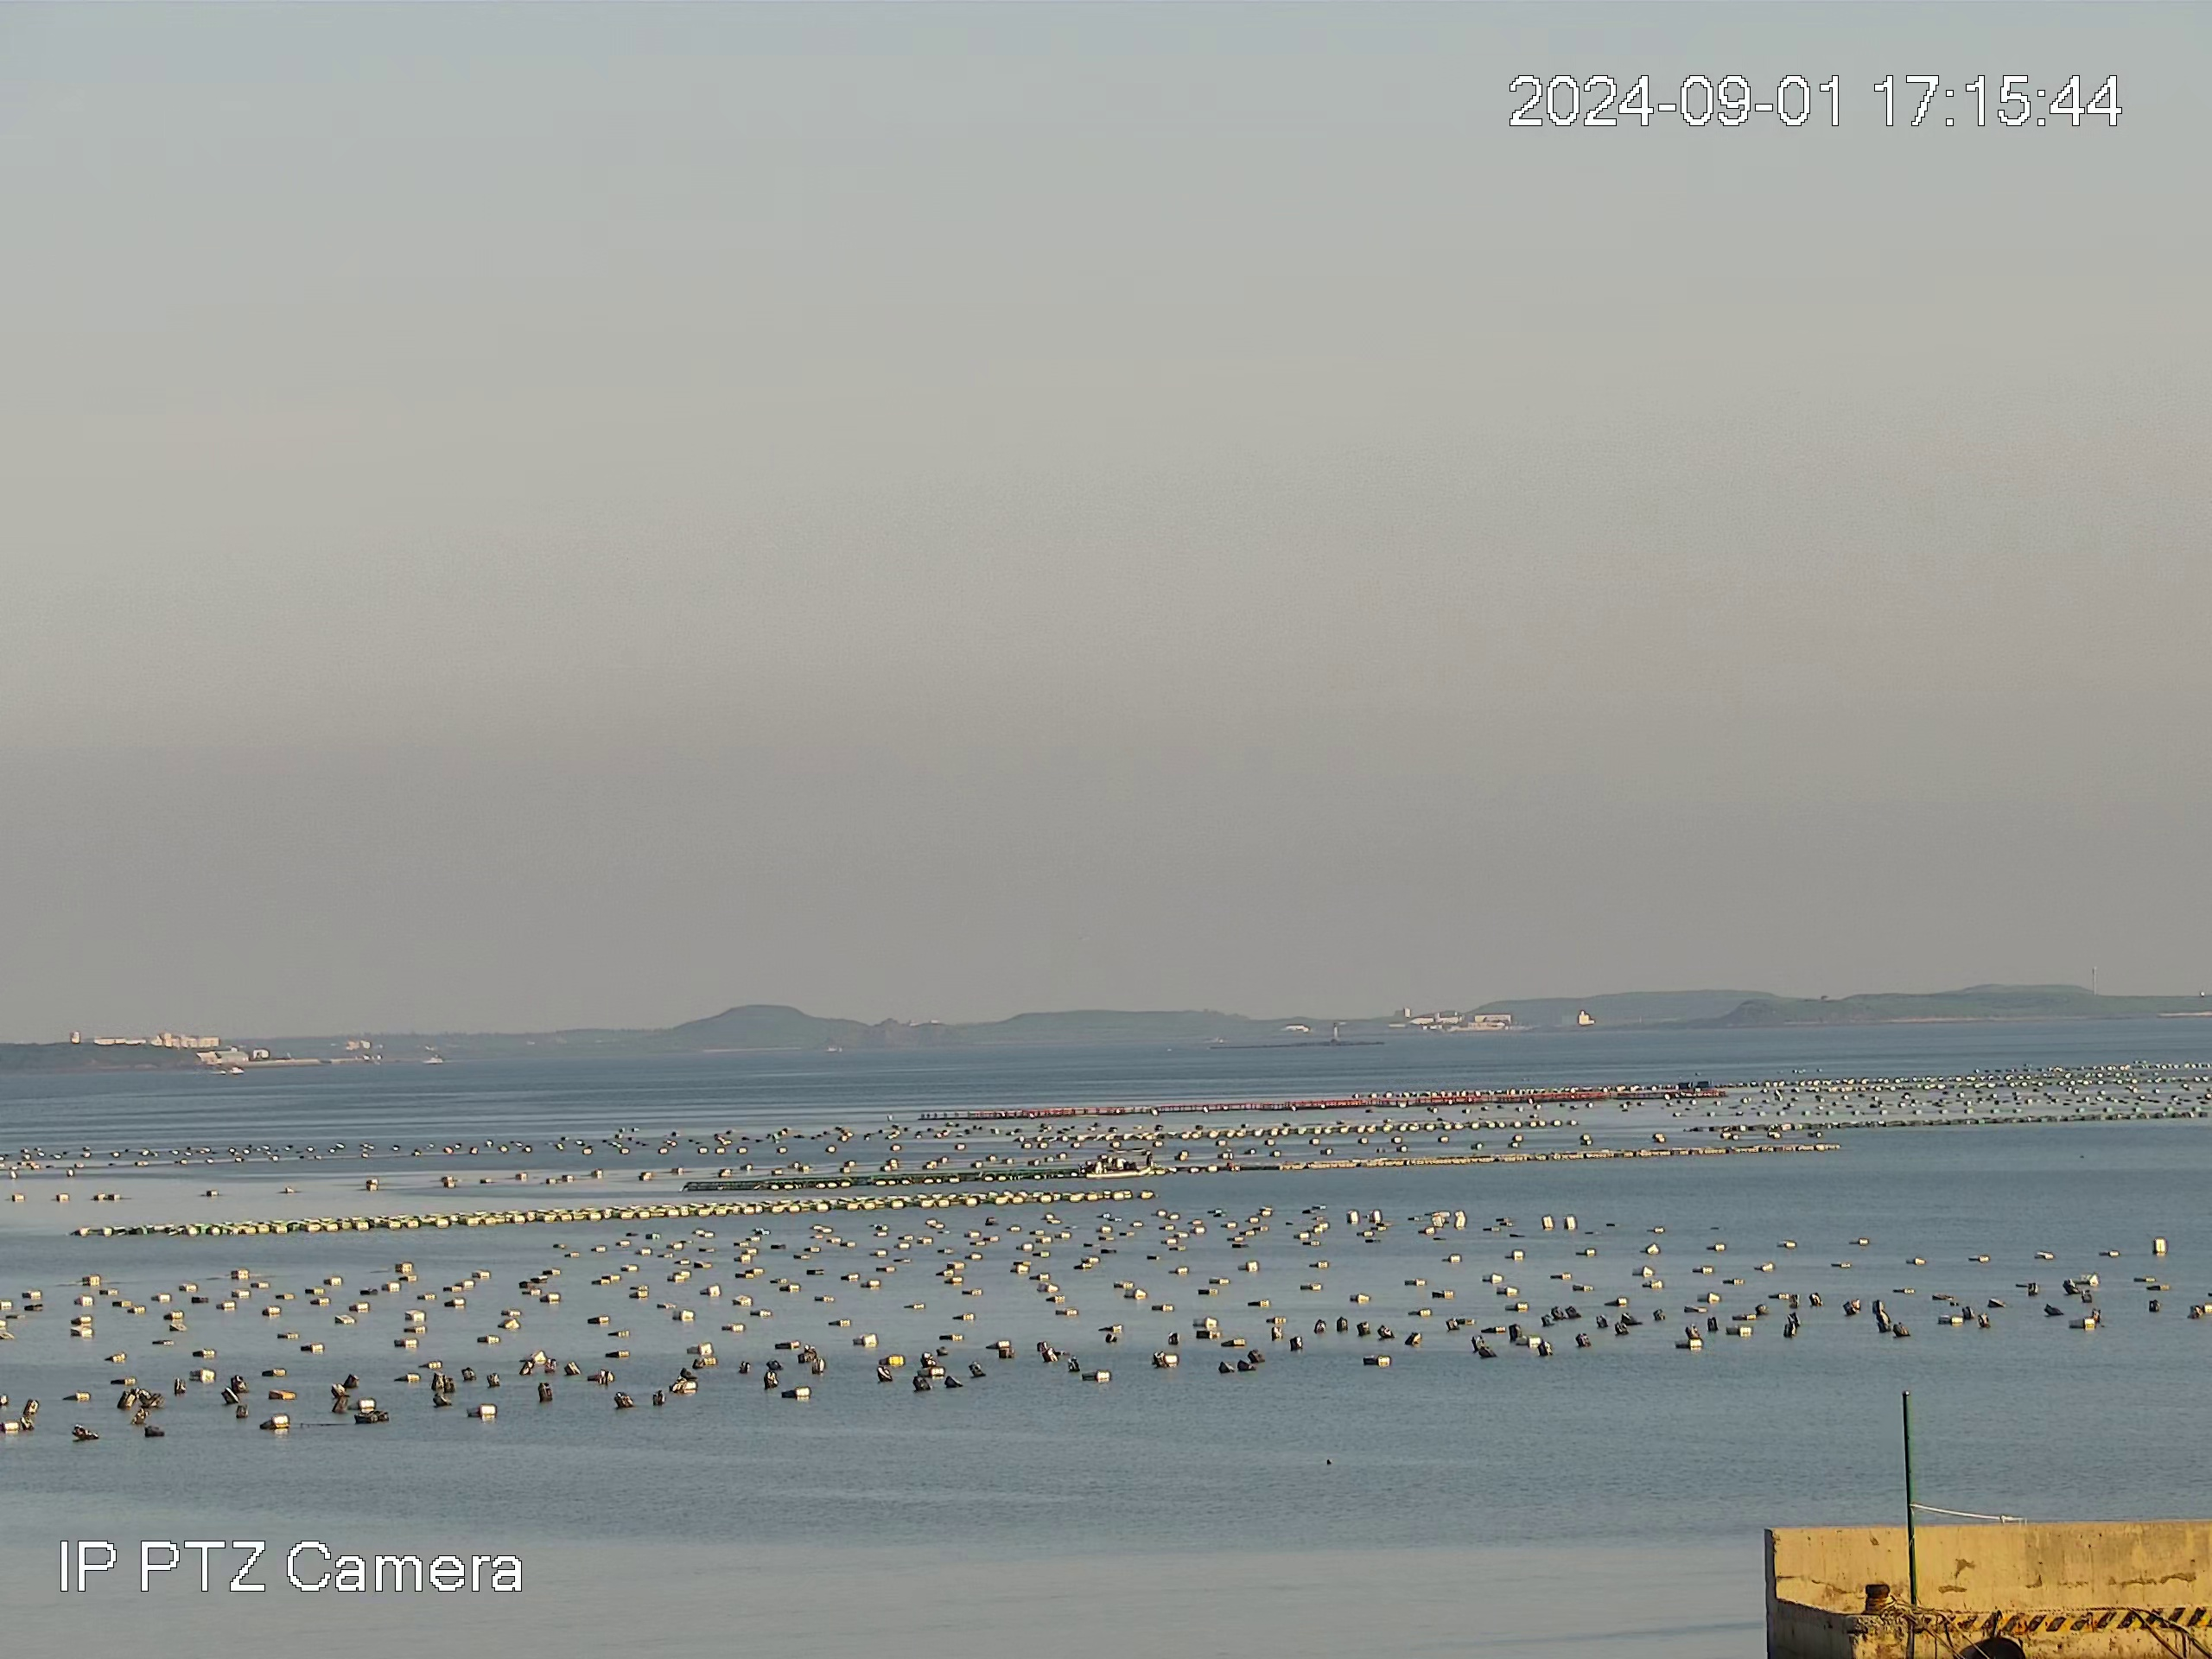boat: (1089, 1150, 1157, 1176)
